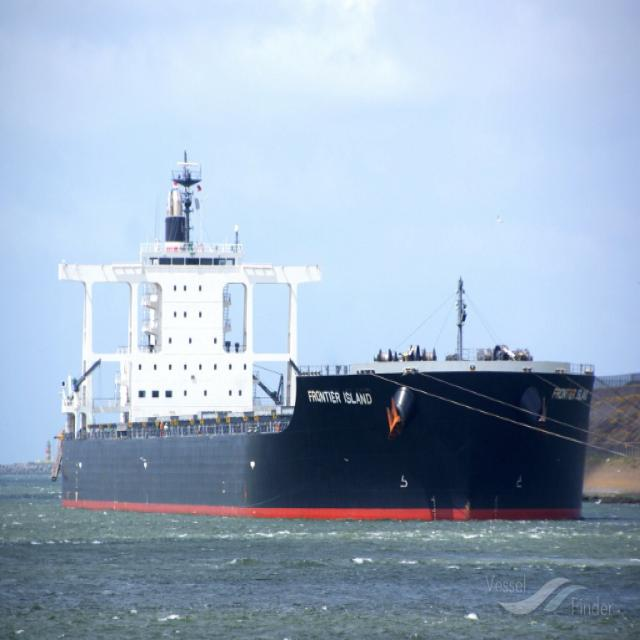OCR: (299, 381, 380, 412)
